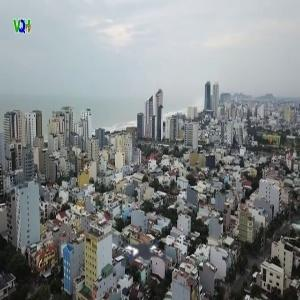drone: (98, 206, 192, 300)
